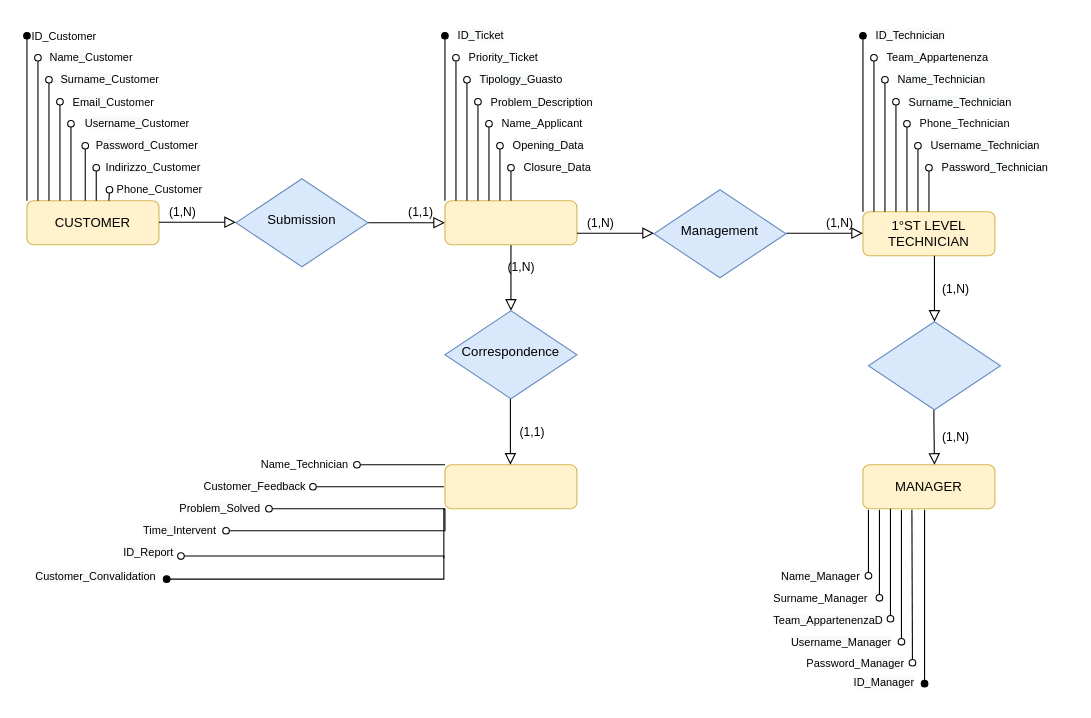
Image size: 1091x718. Some labels were removed from this diagram. Each missing label, with the centre of its shape:
REPORT: the point at 510,486
Supervision: the point at 933,365
TICKET: the point at 510,222
